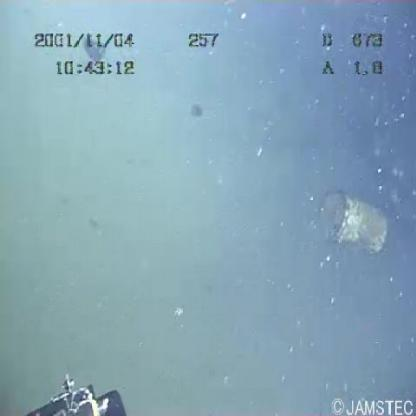Rov: (10, 366, 132, 416)
Rác: (307, 188, 392, 259)
